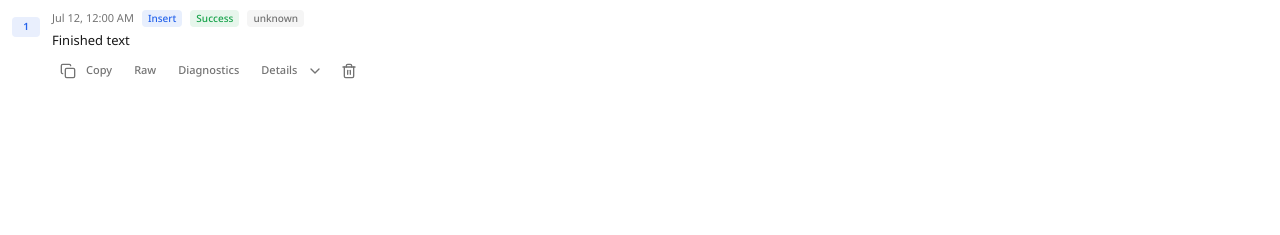
Test: TranscriptionItem › shows provider phase timings, retry count, and request ID in diagnostics
This screenshot has width=1280, height=235.
Click the button "Details" at (292, 70), box [253,58,332,82]
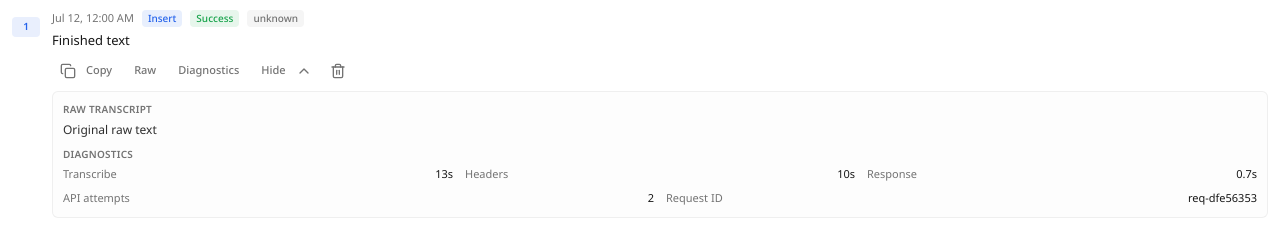
Now the text "Headers" is shown, box [465,166,508,182]
Now the text "10s" is shown, box [837,166,855,182]
Now the text "Response" is shown, box [867,166,917,182]
